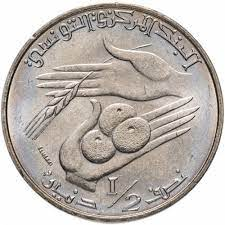500 millimes: (2, 2, 223, 222)
